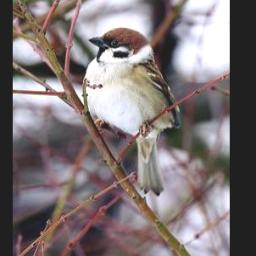Sparrow: (81, 27, 183, 194)
